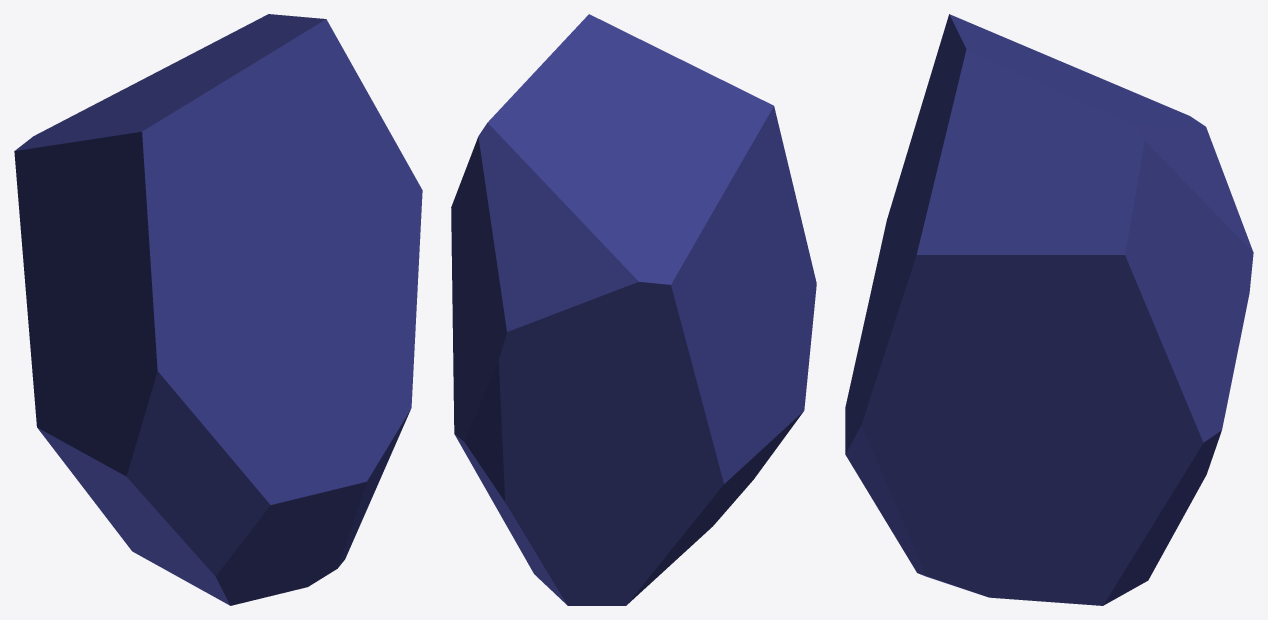
File: Pedra_01.fbx
3 views of the same model, side by side, from view 1: azimuth 30°, elevation 25°; view 2: azimuth 150°, elevation 25°; view 3: azimuth 270°, elevation 25° (orthographic). The views are drawn at different scales.
Parts seen in each view (by area): view 1: Pedra_01; view 2: Pedra_01; view 3: Pedra_01.
Boxes of the visible parts, x1,y1,x2,y2 form: Pedra_01: (14,14,422,605); Pedra_01: (451,14,816,605); Pedra_01: (845,14,1253,605).
Bounding box in the file's own units: 23.79 × 44.13 × 28.92.
